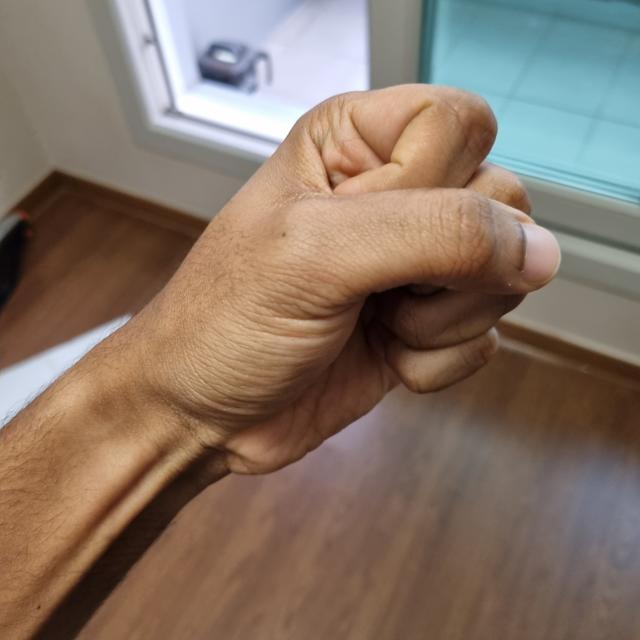Rock: (120, 83, 553, 454)
